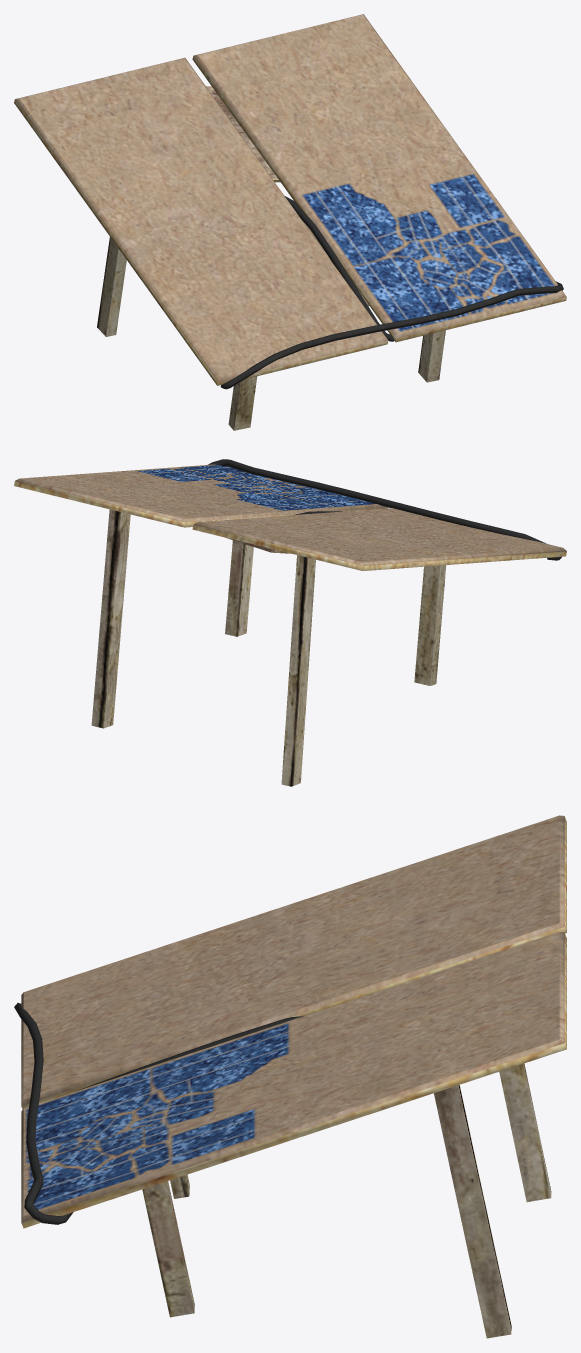
The model's file is SolarCell_Floor_v1.fbx.
3 renders of one model, top to bottom at view 1: azimuth 30°, elevation 25°; view 2: azimuth 150°, elevation 25°; view 3: azimuth 270°, elevation 25°, orthographic. The views are drawn at different scales.
Parts seen in each view (by area): view 1: SolarPanel; view 2: SolarPanel; view 3: SolarPanel.
Boxes of the visible parts, x1,y1,x2,y2 form: SolarPanel: (14, 14, 566, 430); SolarPanel: (14, 459, 566, 786); SolarPanel: (14, 815, 566, 1338).
Size of the model in its own units: 87.07 by 58.99 by 88.38.
Materials: 1 (1 with a texture image).
